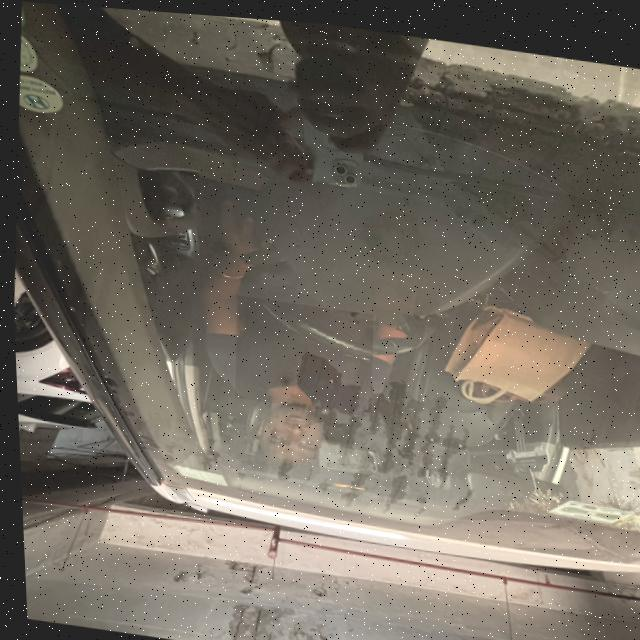no-seatbelt: (227, 291, 374, 411)
